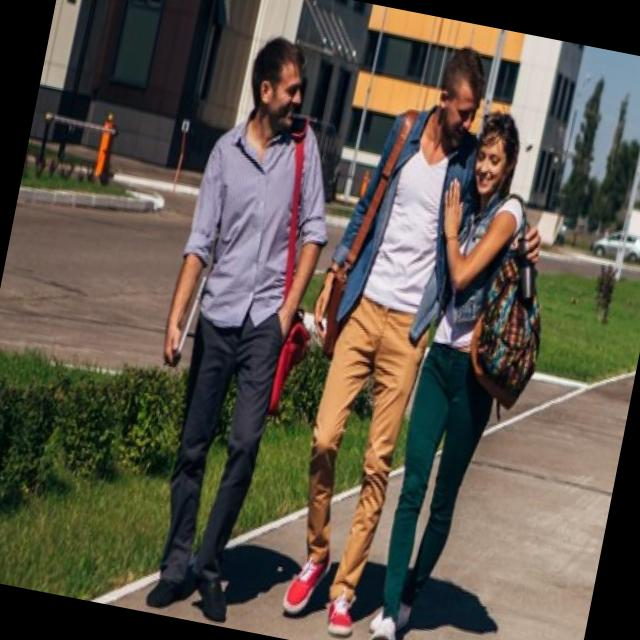person: (97, 9, 368, 633), (255, 33, 510, 640), (351, 97, 564, 640)
